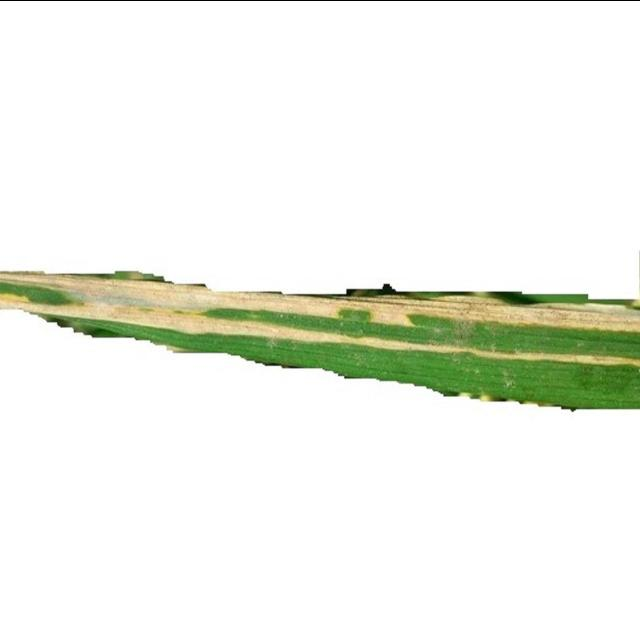Bacterial leaf blight: (0, 268, 640, 366)
